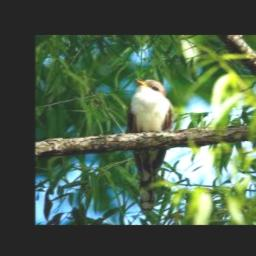Cuckoo: (128, 78, 174, 211)
